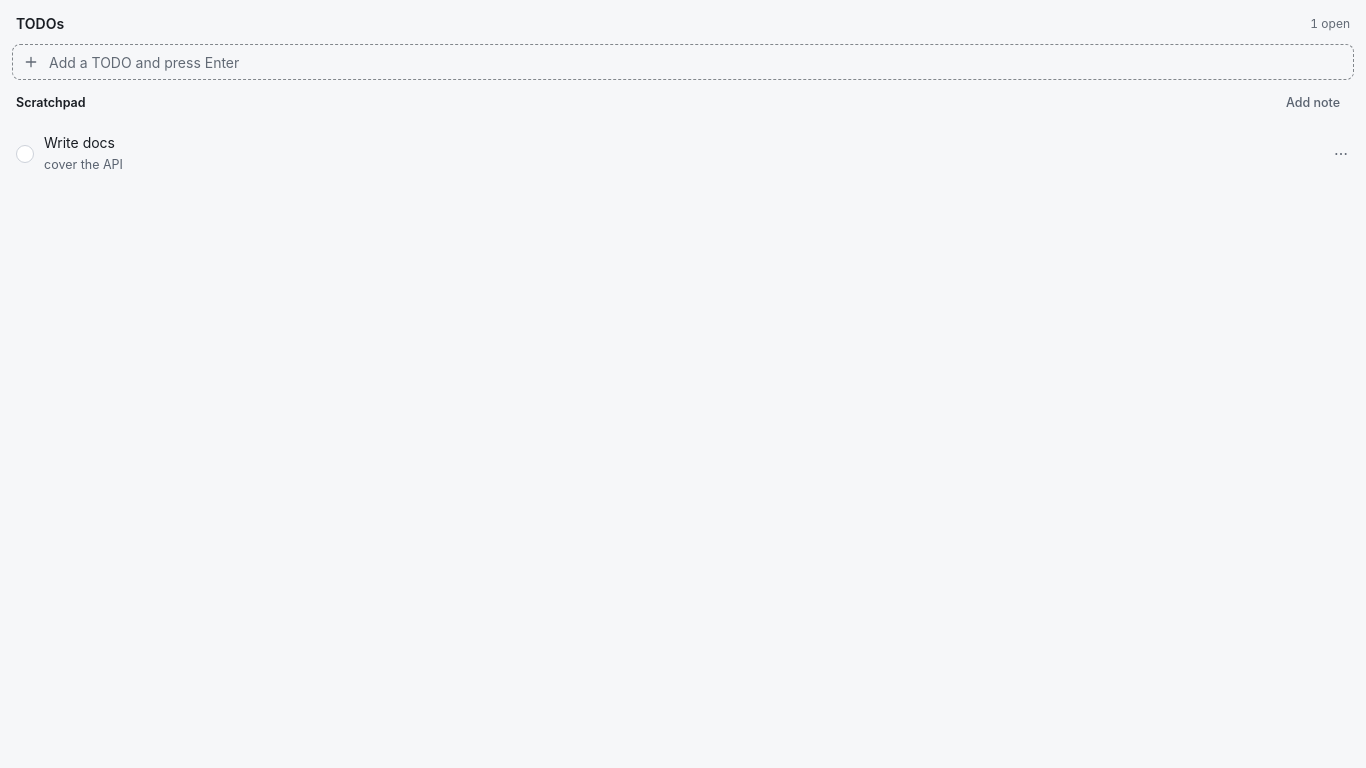
Test: can discard my edits in favour of the stored value after a conflict
The width and height of the screenshot is (1366, 768).
Click the button named "Actions for Write docs".
click(1341, 154)  # box [1328,140,1354,166]
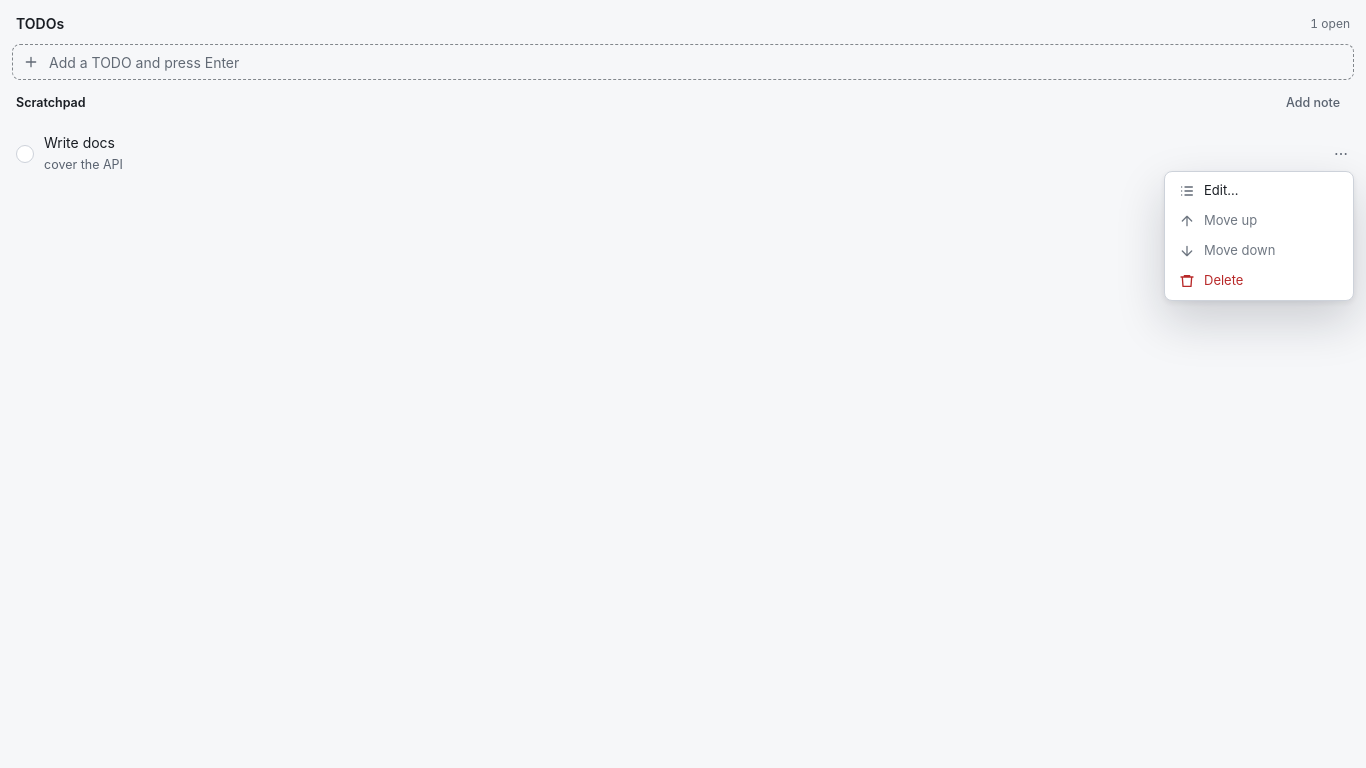
Click the menu item "Edit…".
click(1259, 190)  # box [1169,176,1349,206]
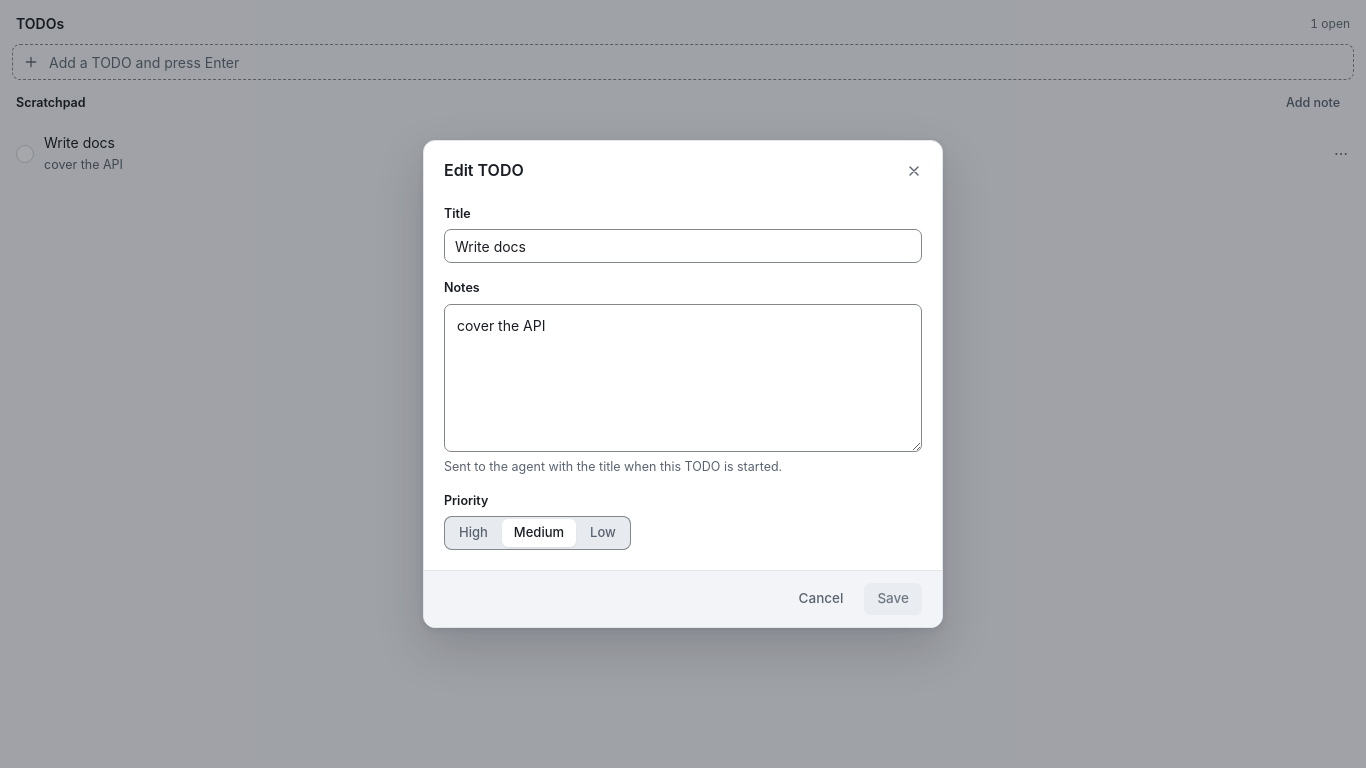
Replace the text in the field named "TODO title" with "Mine" at (683, 246), box [444,229,922,263]
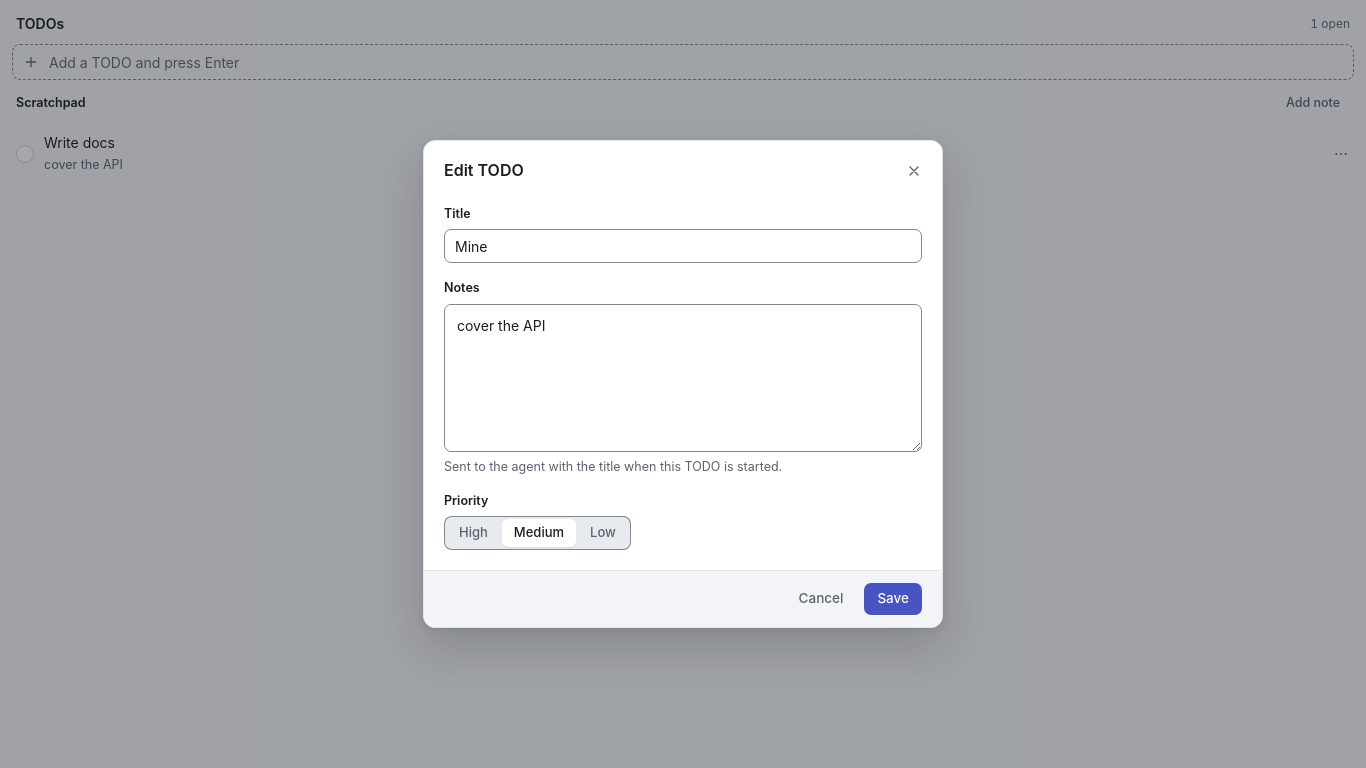
Click the button "Save".
click(893, 599)  # box [864,583,922,615]
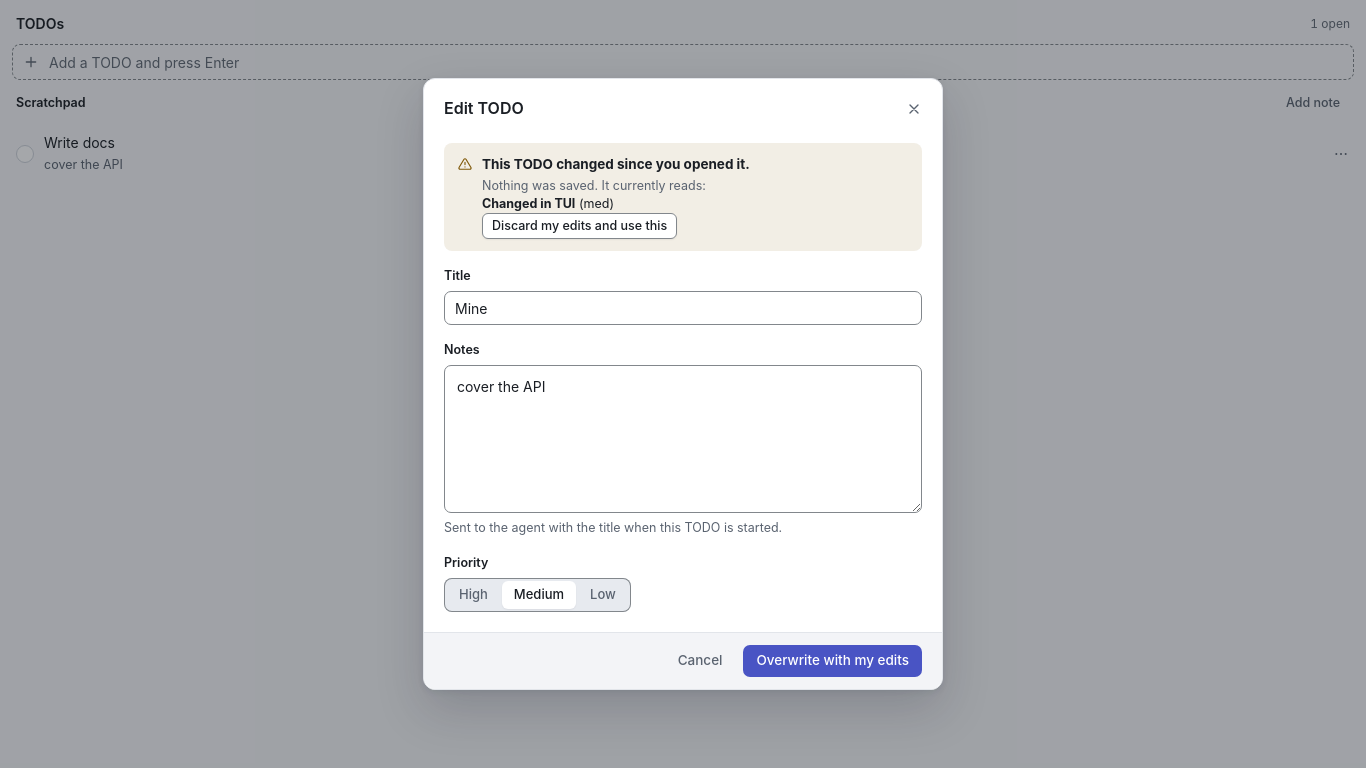
Click the button "Discard my edits and use this".
click(580, 226)  # box [482,213,677,239]
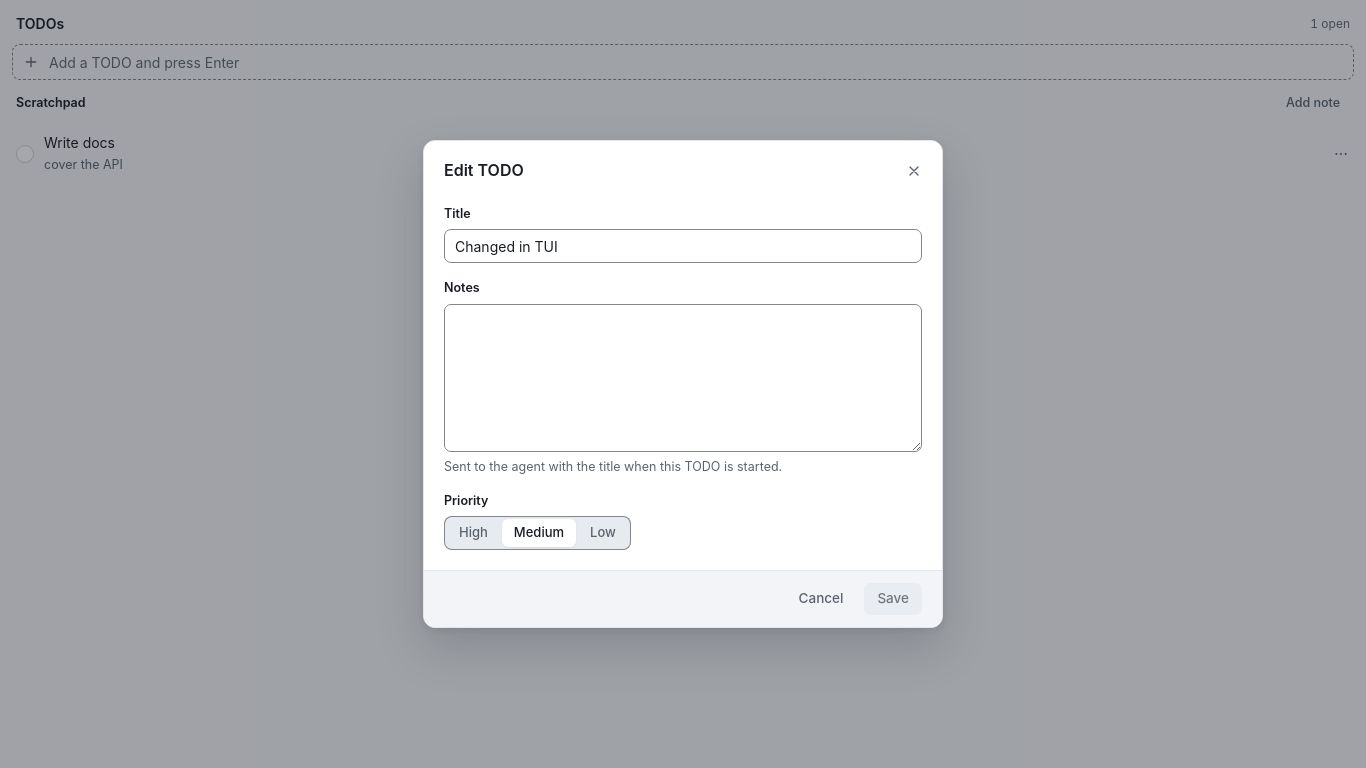
Expected: the field named "TODO title" holds "Changed in TUI", [444,229,922,263]
